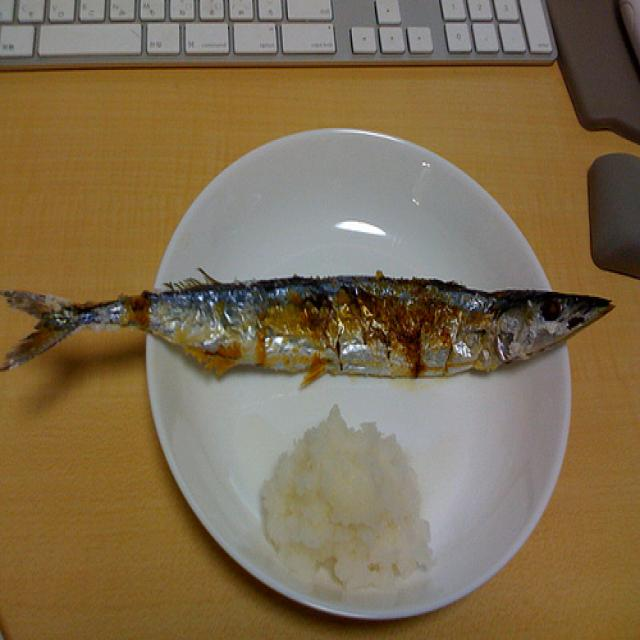熟制海鲜: (0, 241, 630, 394)
